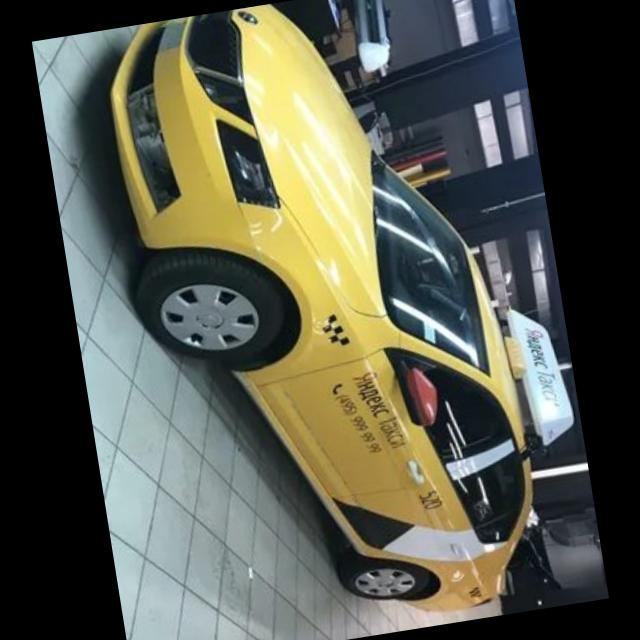taxi: (92, 1, 603, 640)
